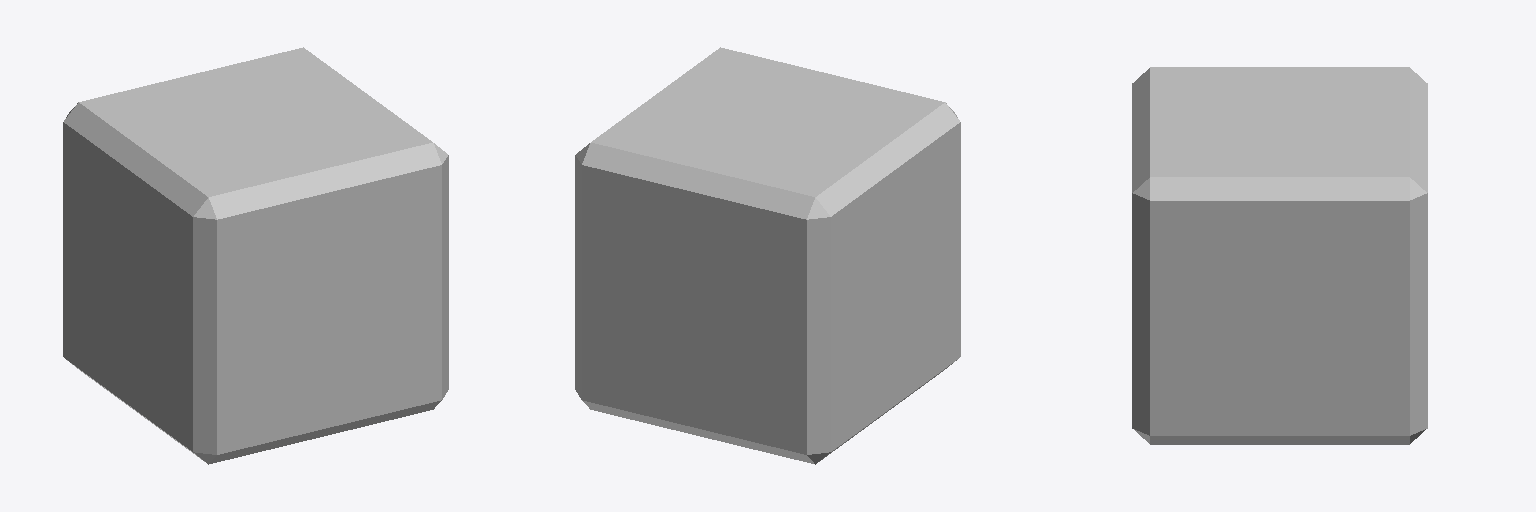
Rendered from Block_01.obj.
3 views of the same model, side by side, from view 1: azimuth 30°, elevation 25°; view 2: azimuth 150°, elevation 25°; view 3: azimuth 270°, elevation 25° (orthographic).
Parts seen in each view (by area): view 1: Cube; view 2: Cube; view 3: Cube.
Part boxes in pixels (left/top/right/bottom): Cube: left=63, top=47, right=448, bottom=464; Cube: left=575, top=47, right=960, bottom=464; Cube: left=1132, top=67, right=1427, bottom=444.
Size of the model in its own units: 2 by 2 by 2.